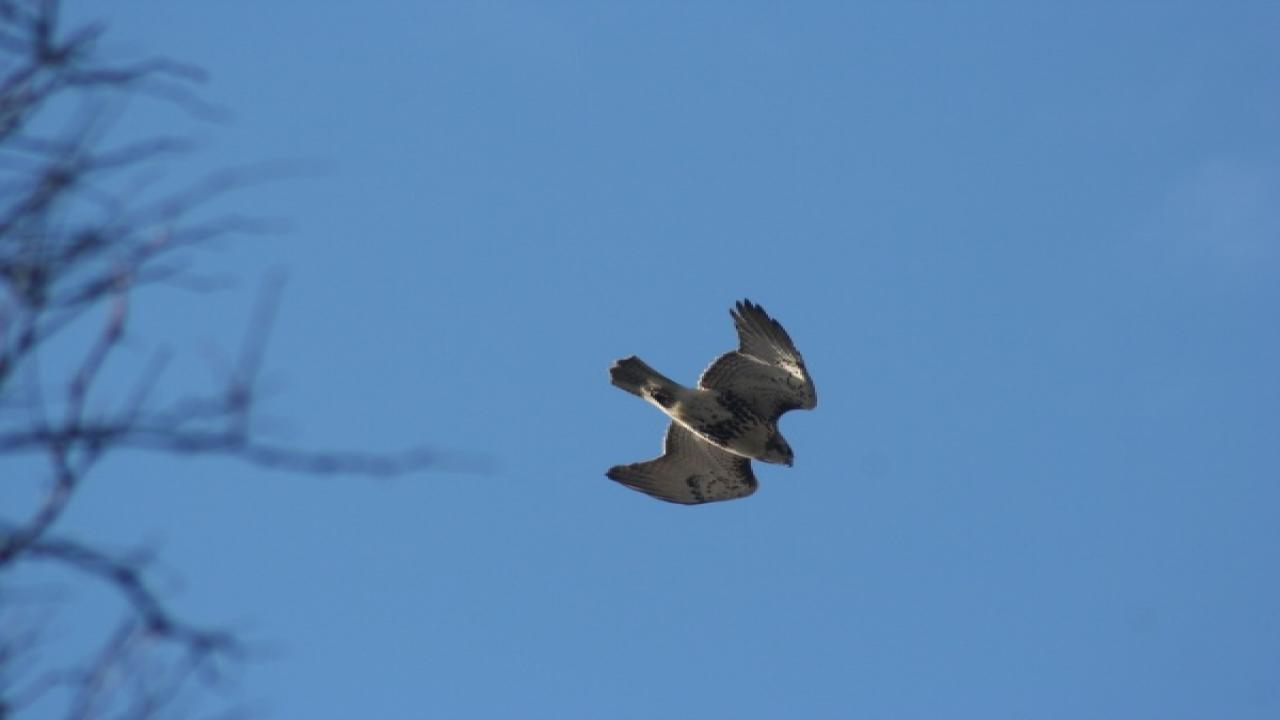Bird: (589, 290, 830, 515)
